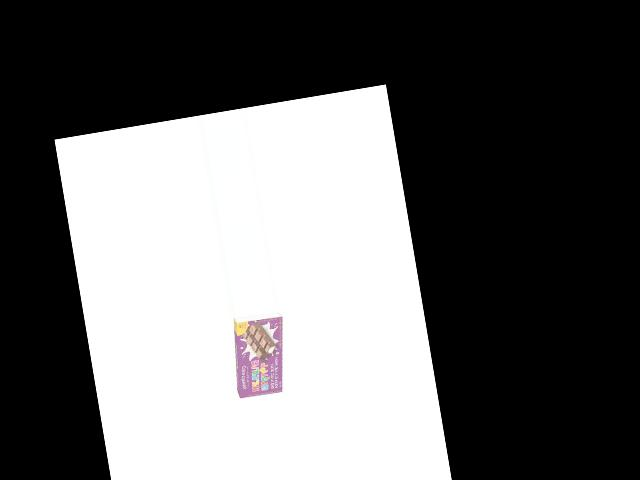chocolate: (225, 310, 291, 404)
